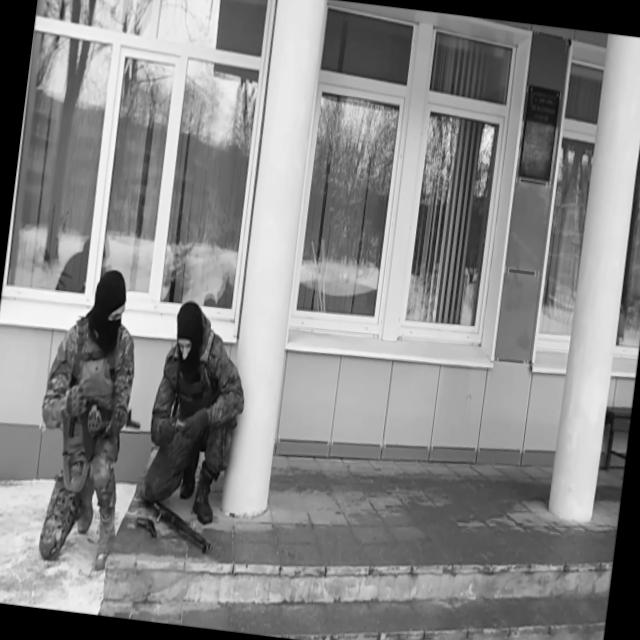gun: (54, 386, 145, 470), (130, 478, 218, 556), (134, 512, 160, 542)
person with a gun: (22, 261, 160, 575), (139, 296, 256, 528)
